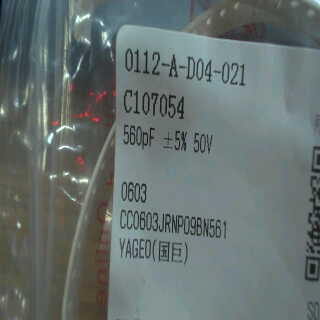560pF: (119, 121, 157, 152)
